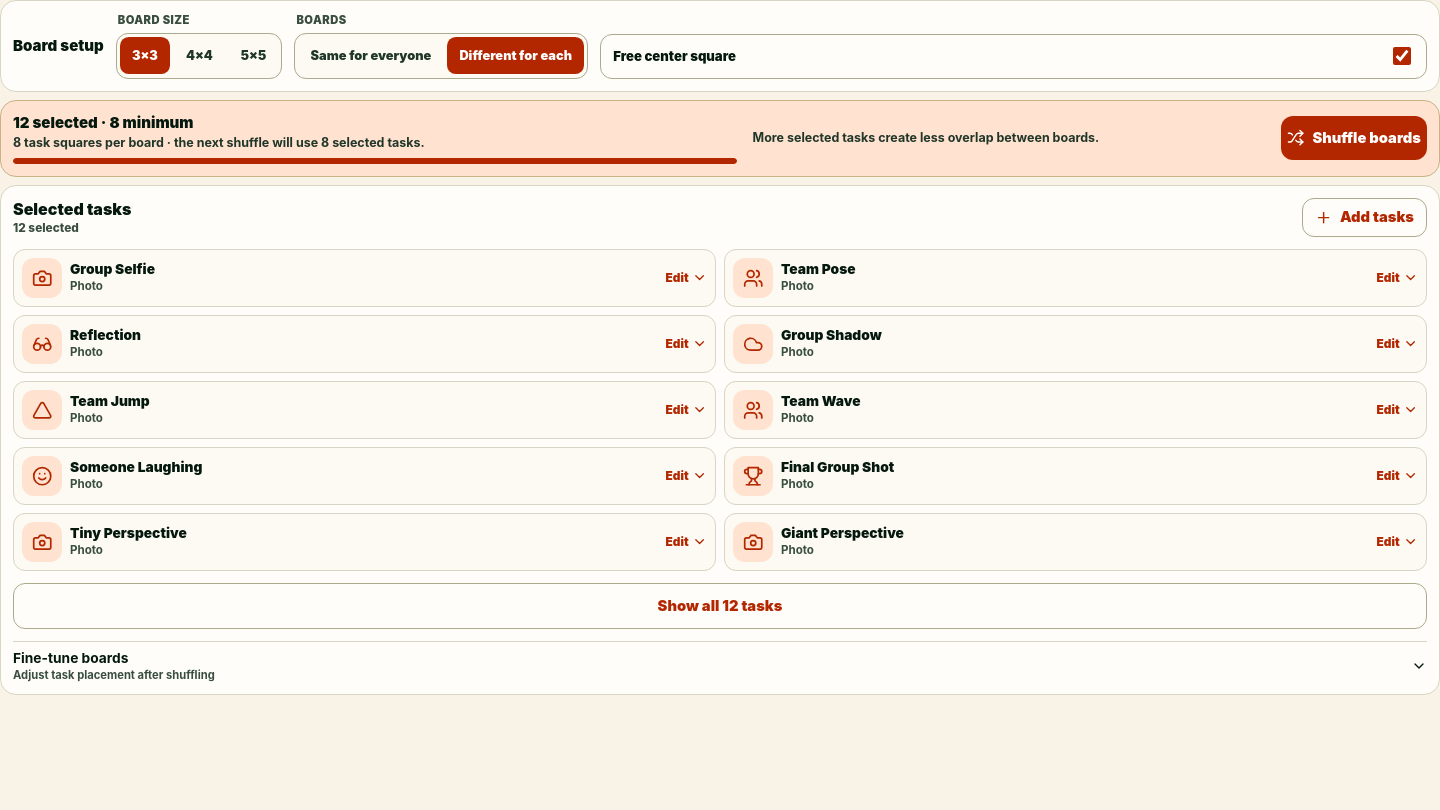
Test: catalog board editor › keeps template task scrolling on the page and reveals the full list on request
Click the button "Show all 12 tasks". click: (720, 606)
box: [13,583,1427,629]
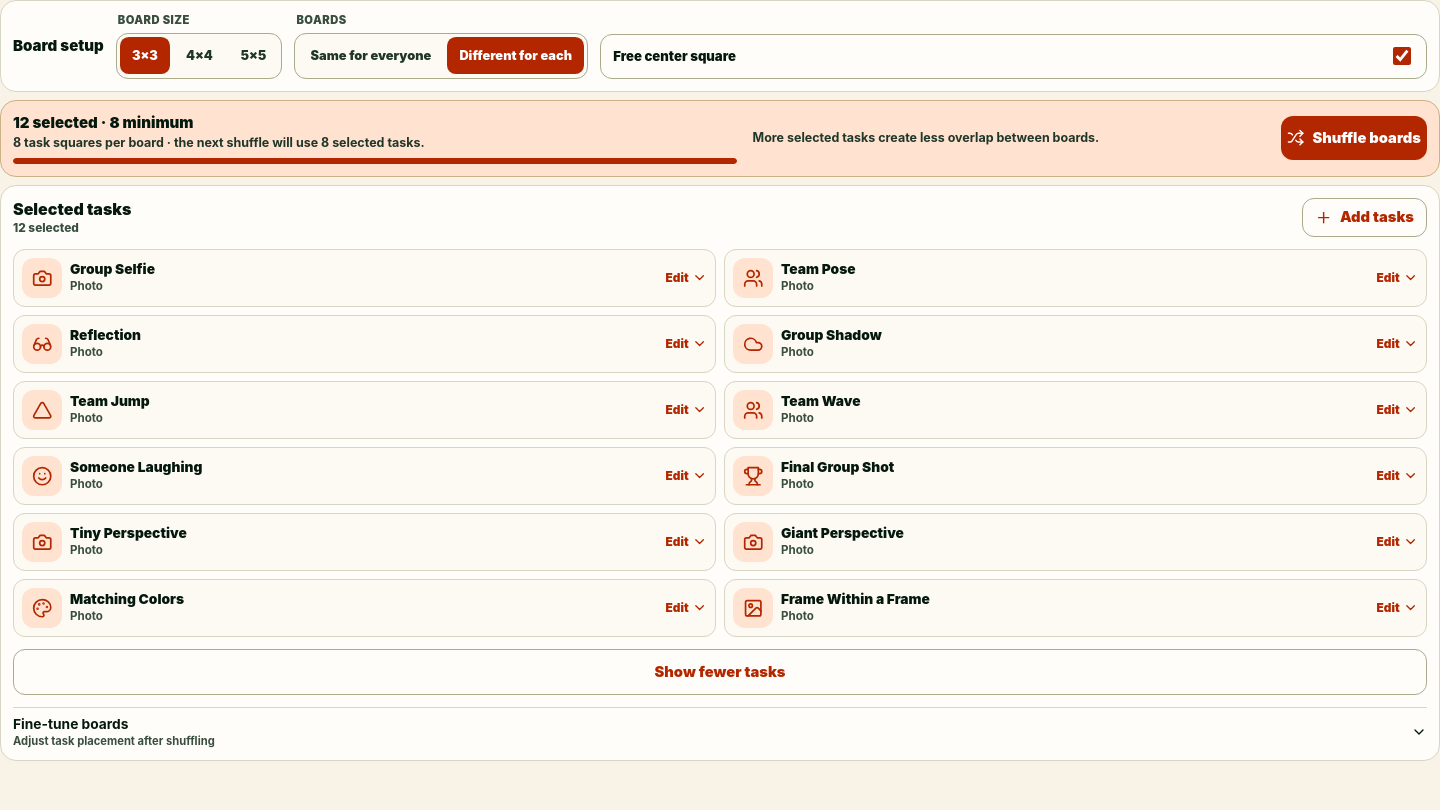
Now the button "Show fewer tasks" is shown, box [13,649,1427,695]
